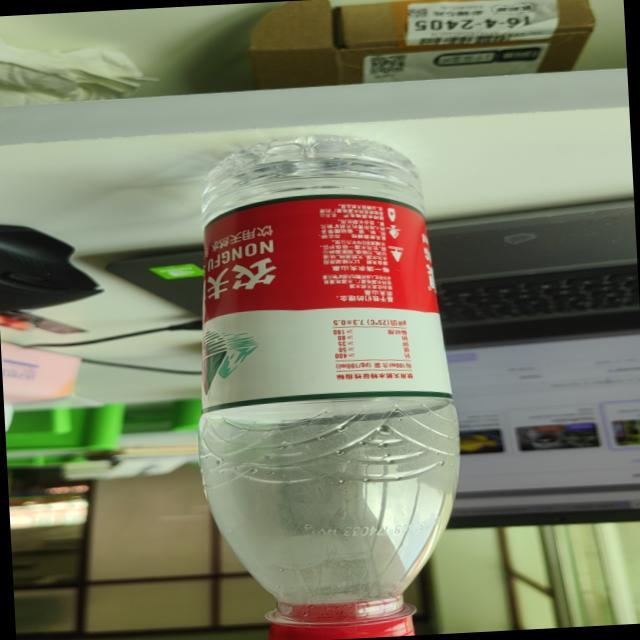good: (172, 121, 469, 640)
